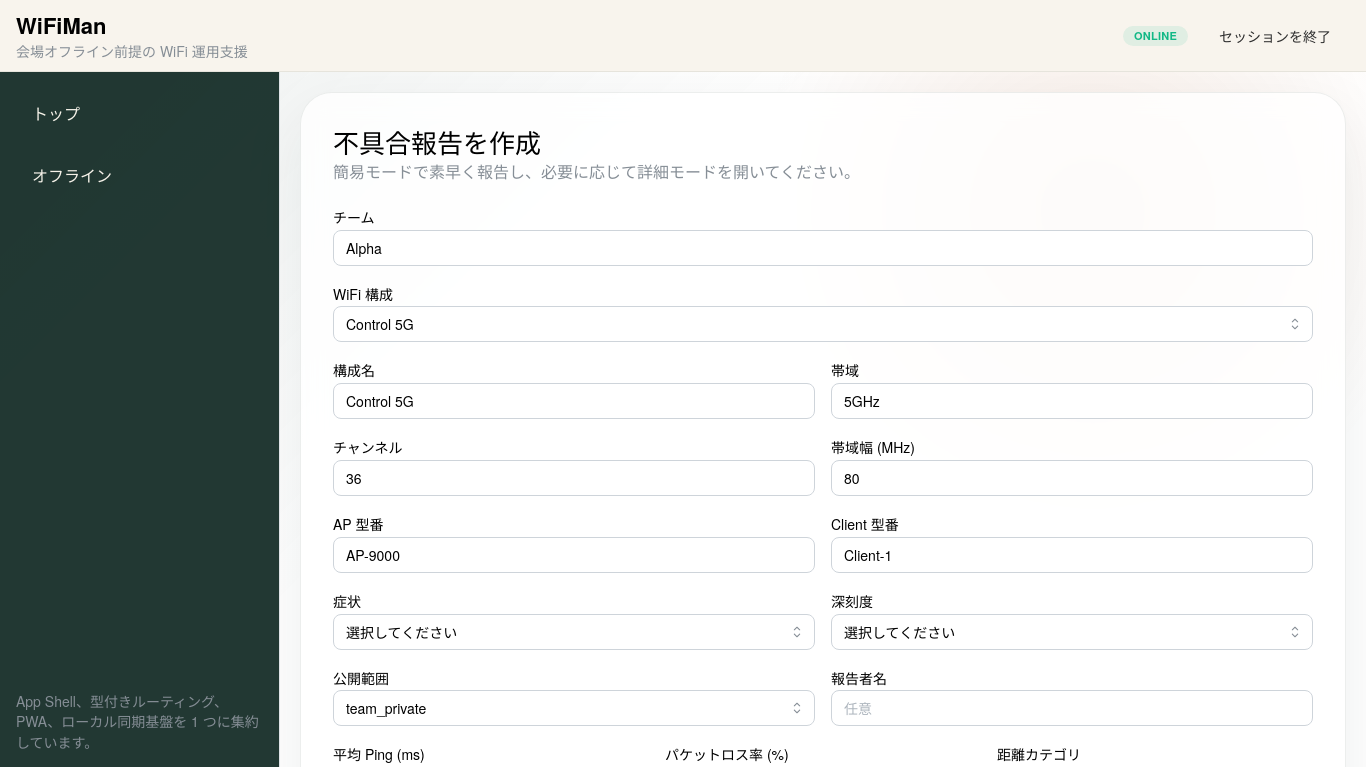
Test: team management routes › 作成画面の API 失敗は submit error として表示する
Expected: the heading "不具合報告を作成" is shown, left=333, top=124, right=541, bottom=161
Select "high_latency" in the dropdown labelled "症状" at (574, 632), box left=333, top=614, right=815, bottom=650
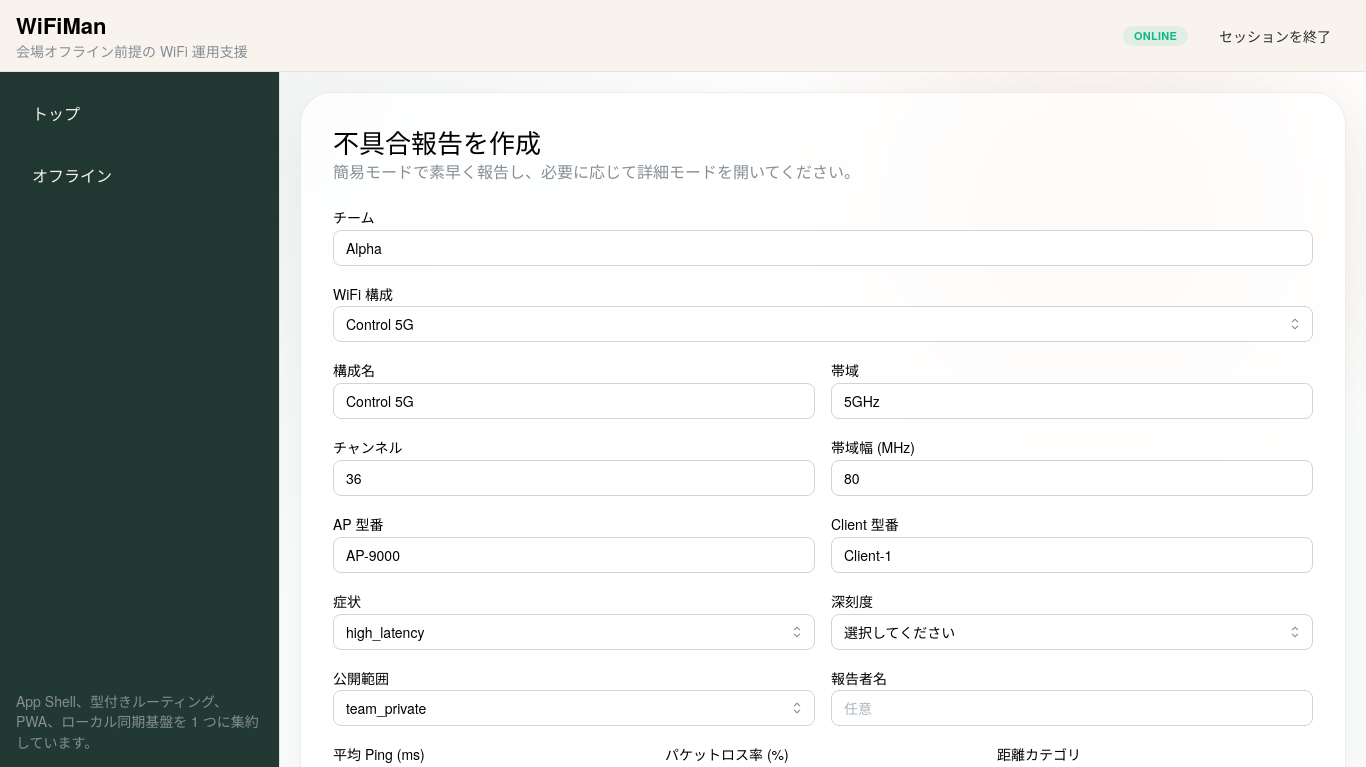
Select "high" in the dropdown labelled "深刻度" at (1072, 632), box left=831, top=614, right=1313, bottom=650
(page scrolled)
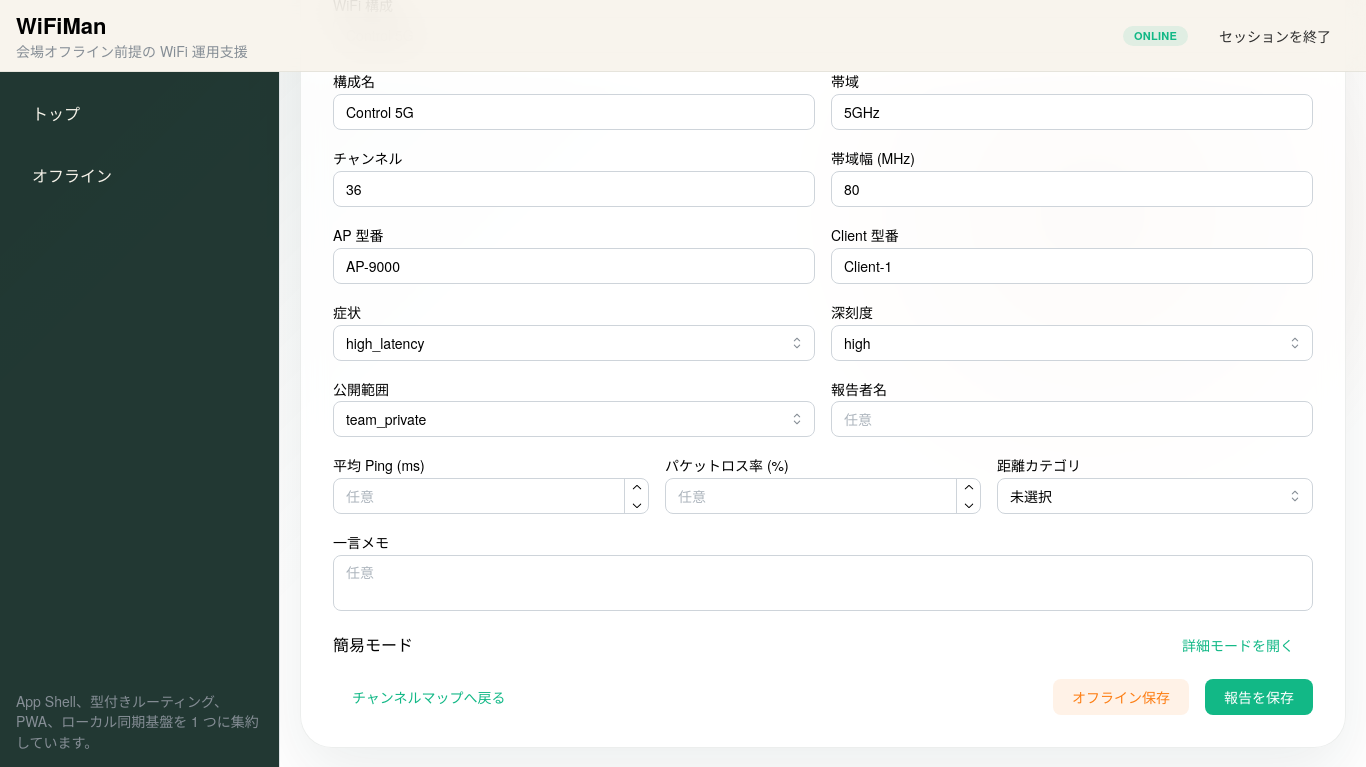
Click the button "報告を保存" at (1259, 697), box left=1205, top=679, right=1313, bottom=715
(page scrolled)
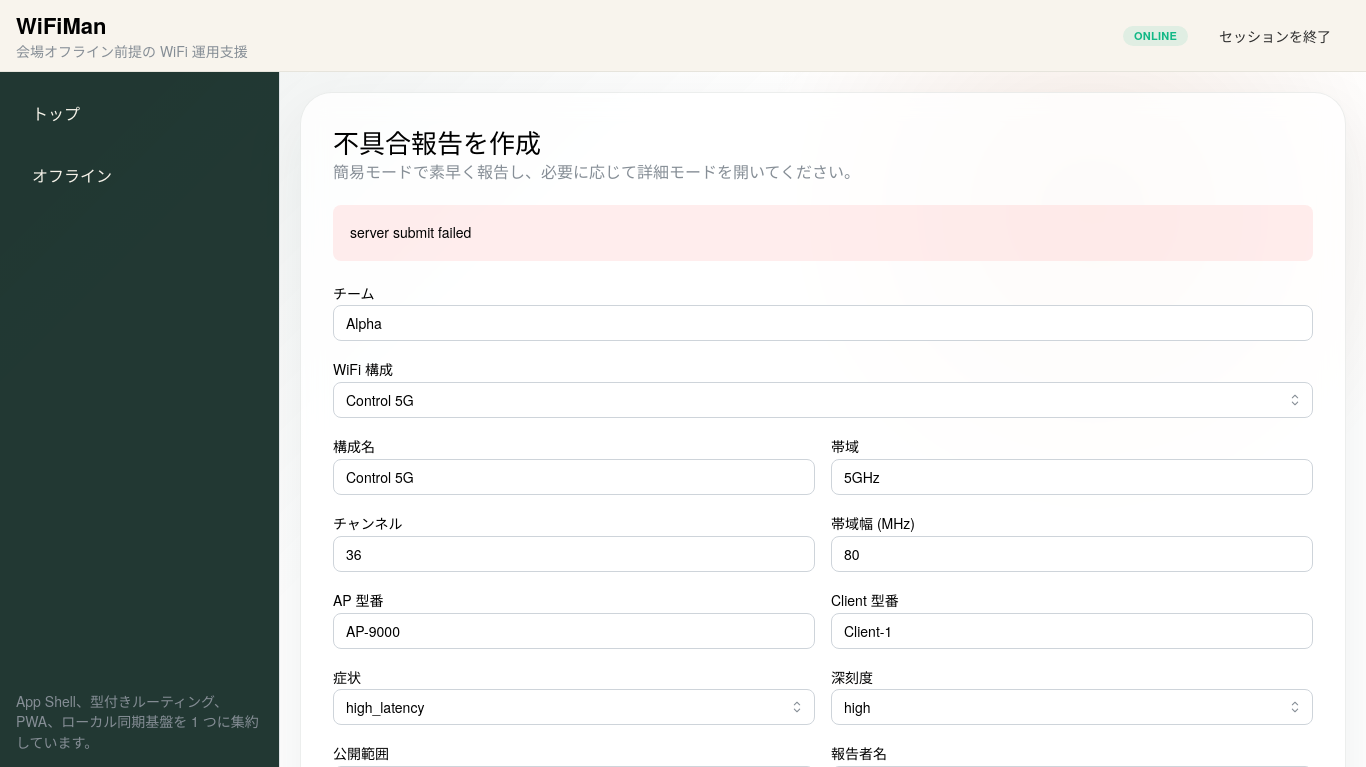
Expected: the text "server submit failed" is shown, left=350, top=222, right=471, bottom=242
